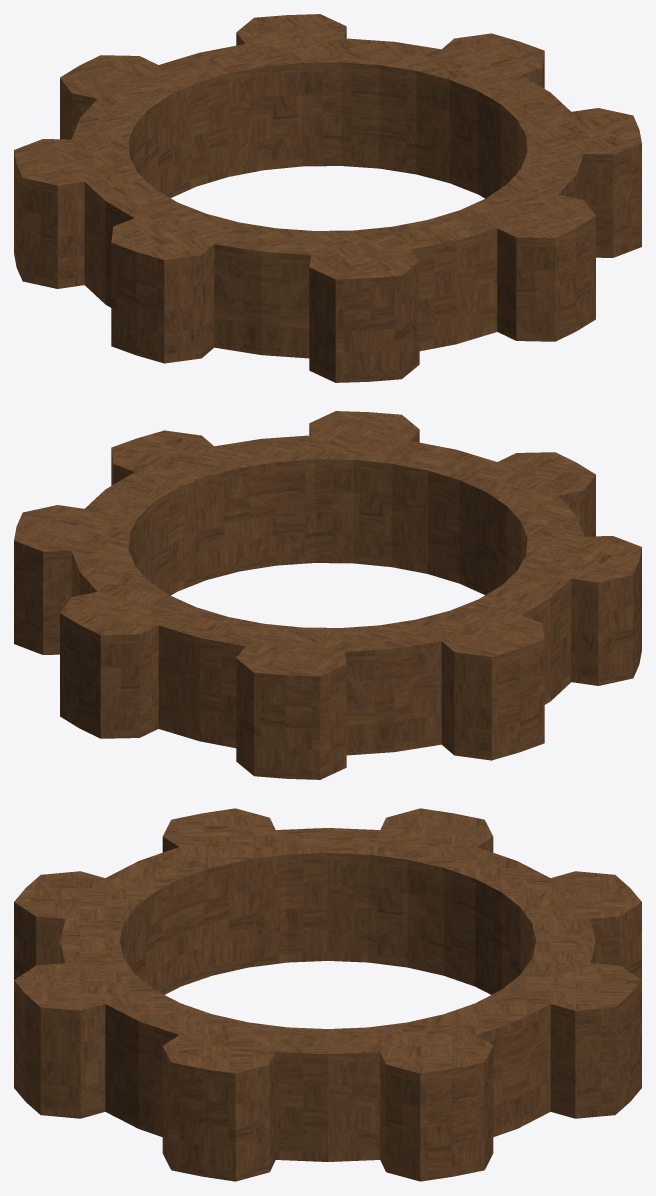
Rendered from GearTest2.glb.
3 views of the same model, one above another, from view 1: azimuth 30°, elevation 25°; view 2: azimuth 150°, elevation 25°; view 3: azimuth 270°, elevation 25° (orthographic). The views are drawn at different scales.
Parts seen in each view (by area): view 1: Gear2; view 2: Gear2; view 3: Gear2.
Boxes of the visible parts, x1=… form: Gear2: x1=14, y1=14, x2=641, y2=382; Gear2: x1=14, y1=411, x2=641, y2=779; Gear2: x1=14, y1=808, x2=641, y2=1181.
Size of the model in its own units: 2.11 by 0.4 by 2.11.
Materials: 1 (1 with a texture image).
